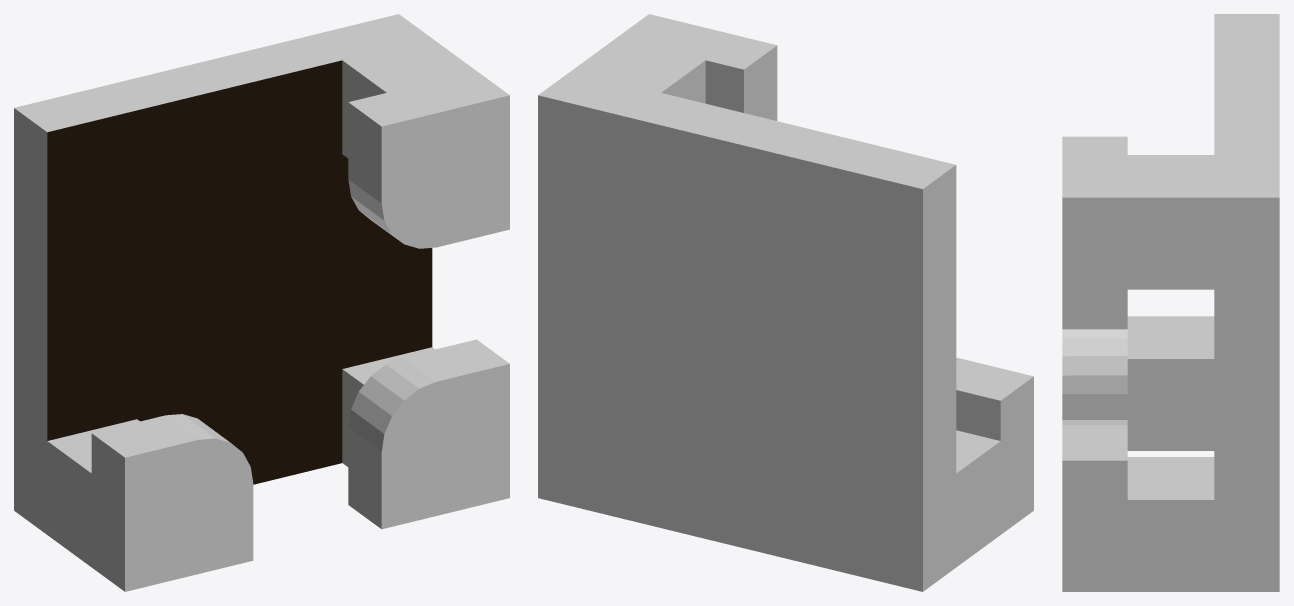
The model's file is block_edge_triple.fbx.
3 views of the same model, side by side, from view 1: azimuth 30°, elevation 25°; view 2: azimuth 150°, elevation 25°; view 3: azimuth 270°, elevation 25° (orthographic). The views are drawn at different scales.
Parts seen in each view (by area): view 1: block_edge_triple; view 2: block_edge_triple; view 3: block_edge_triple.
Boxes of the visible parts, x1,y1,x2,y2 form: block_edge_triple: (14, 14, 509, 591); block_edge_triple: (538, 14, 1033, 591); block_edge_triple: (1062, 14, 1279, 591).
Size of the model in its own units: 0.2 by 0.2 by 0.1.
